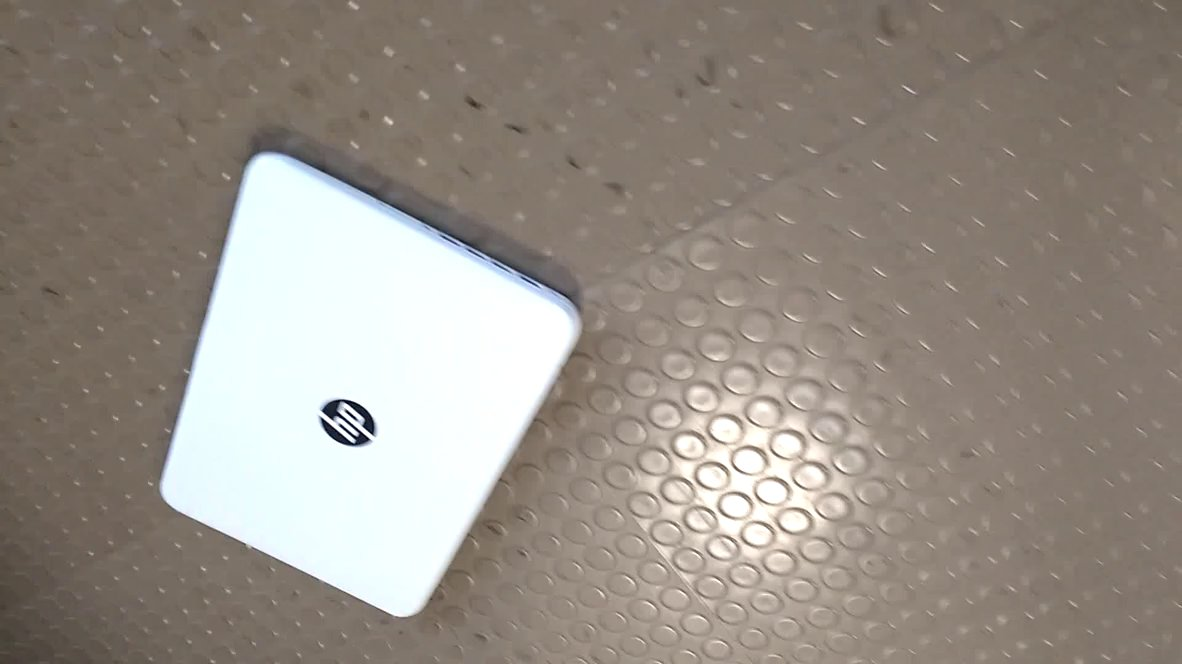laptop: (154, 137, 593, 632)
